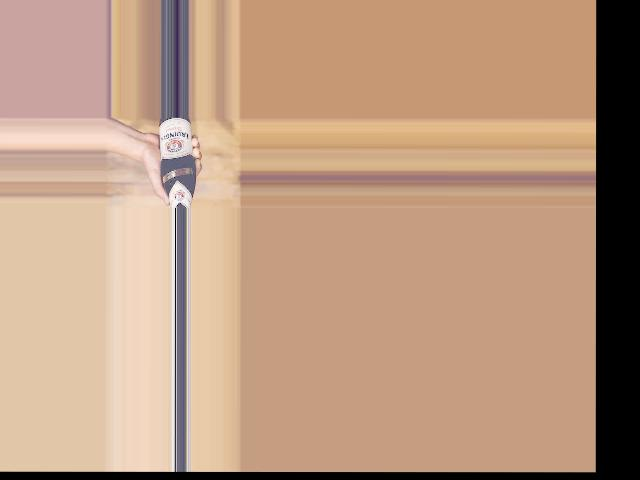beer: (158, 116, 195, 207)
